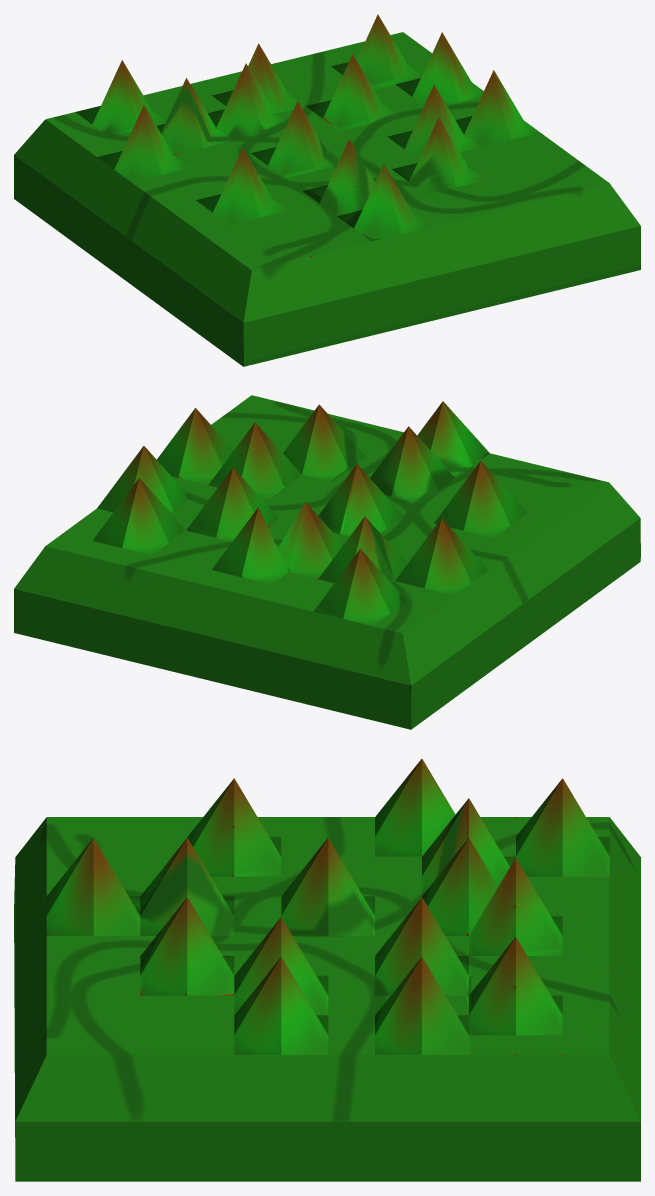
The model's file is mountain_sqr_swamp.glb.
3 renders of one model, top to bottom at view 1: azimuth 30°, elevation 25°; view 2: azimuth 150°, elevation 25°; view 3: azimuth 270°, elevation 25°, orthographic. The views are drawn at different scales.
Visible parts, largest first — view 1: Cylinder; view 2: Cylinder; view 3: Cylinder.
Part boxes in pixels (box(x1,y1,x2,y2)): Cylinder: box(14, 14, 640, 366); Cylinder: box(14, 395, 640, 729); Cylinder: box(14, 759, 640, 1181).
Size of the model in its own units: 1 by 0.3388 by 1.
1 material, 1 textured.
